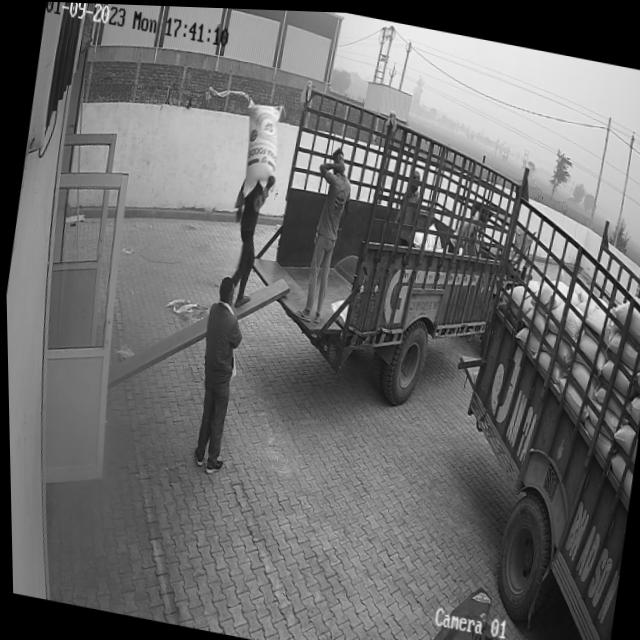sack: (233, 96, 286, 200)
